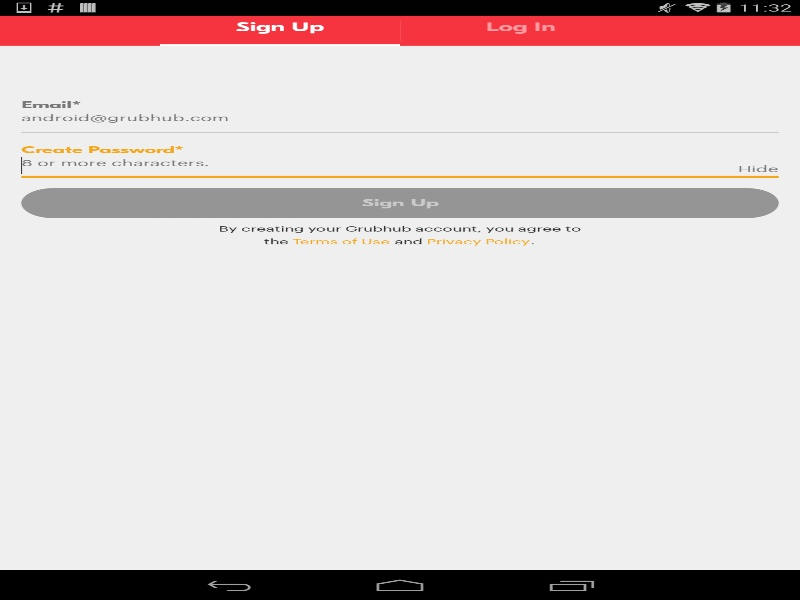Button: (21, 188, 778, 218)
Input: (21, 110, 778, 133), (21, 155, 778, 178)
